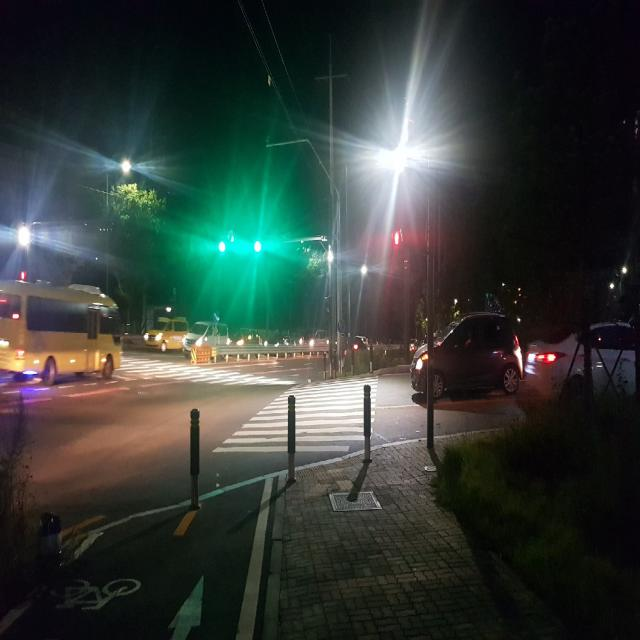빨간불: (390, 224, 404, 275)
횡단보도: (211, 374, 379, 454), (121, 346, 292, 387)
